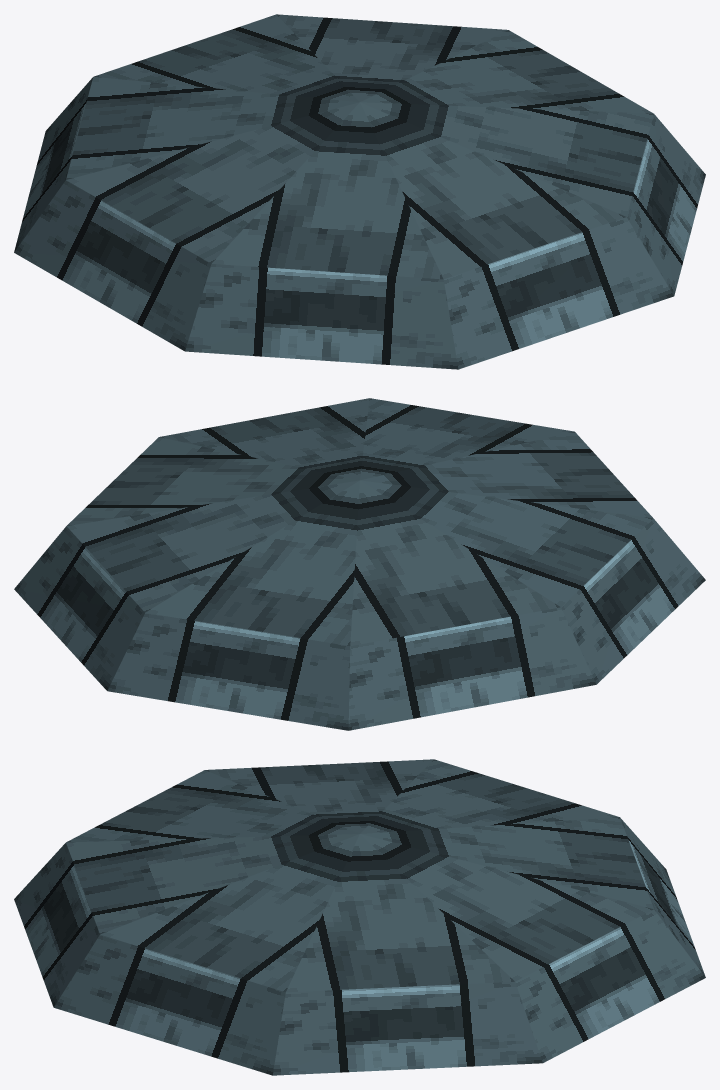
File: primary_119.glb
The picture shows the model from 3 angles, top to bottom: view 1: azimuth 30°, elevation 25°; view 2: azimuth 150°, elevation 25°; view 3: azimuth 270°, elevation 25°; orthographic projection. The views are drawn at different scales.
Visible parts, largest first — view 1: Object; view 2: Object; view 3: Object.
Boxes of the visible parts, x1,y1,x2,y2 form: Object: [14, 14, 705, 369]; Object: [14, 398, 705, 730]; Object: [14, 759, 705, 1075].
Size of the model in its own units: 0.9302 by 0.1654 by 0.9919.
Materials: 2 (2 with a texture image).
